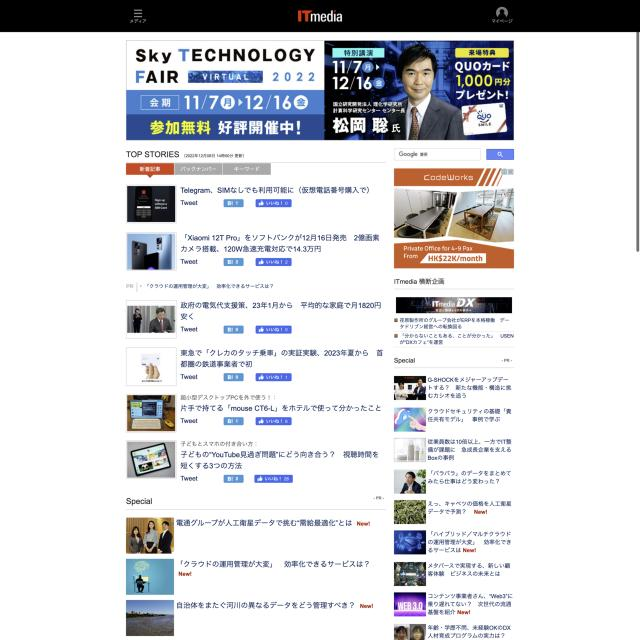content: (126, 184, 386, 486), (124, 515, 380, 637)
logo: (293, 8, 348, 25)
navigation: (492, 5, 514, 26), (130, 8, 149, 26)
